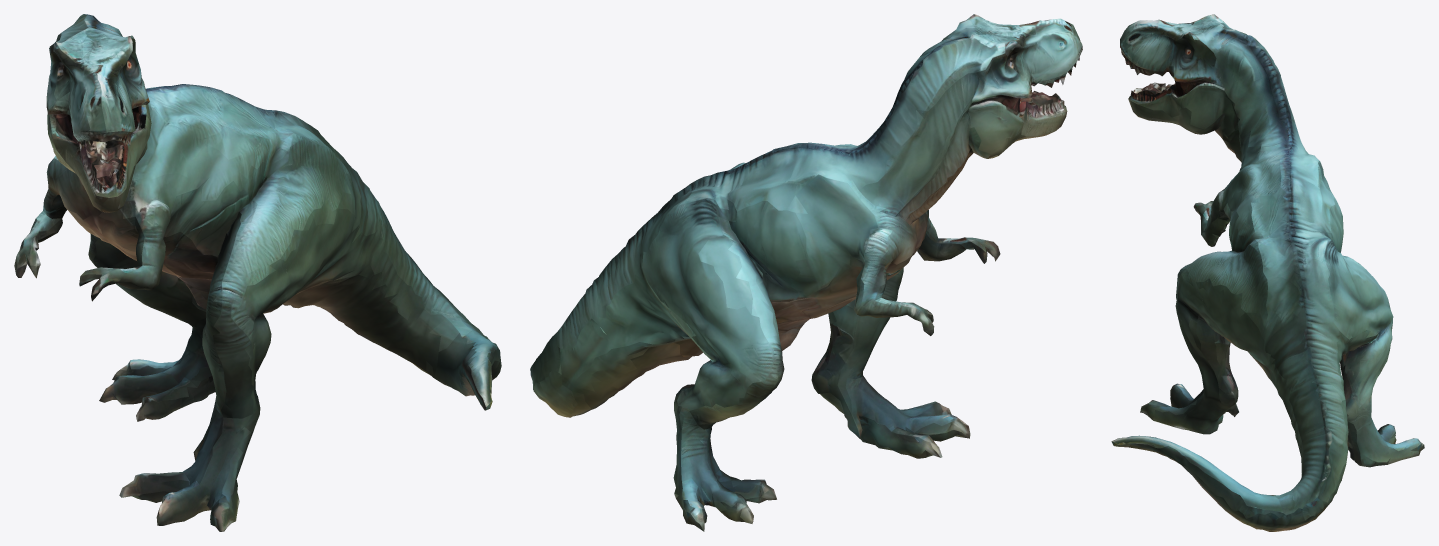
The picture shows the model from 3 angles, left to right: view 1: azimuth 30°, elevation 25°; view 2: azimuth 150°, elevation 25°; view 3: azimuth 270°, elevation 25°; orthographic projection. The views are drawn at different scales.
Visible parts, largest first — view 1: 3a08448119fb47d08e8a0cdd790db4b4.obj; view 2: 3a08448119fb47d08e8a0cdd790db4b4.obj; view 3: 3a08448119fb47d08e8a0cdd790db4b4.obj.
Part boxes in pixels (<box>): 3a08448119fb47d08e8a0cdd790db4b4.obj: <box>14,14,501,531</box>; 3a08448119fb47d08e8a0cdd790db4b4.obj: <box>530,14,1082,531</box>; 3a08448119fb47d08e8a0cdd790db4b4.obj: <box>1111,14,1424,531</box>.
Size of the model in its own units: 1.8 by 1.7 by 1.32.
Materials: 1 (1 with a texture image).
